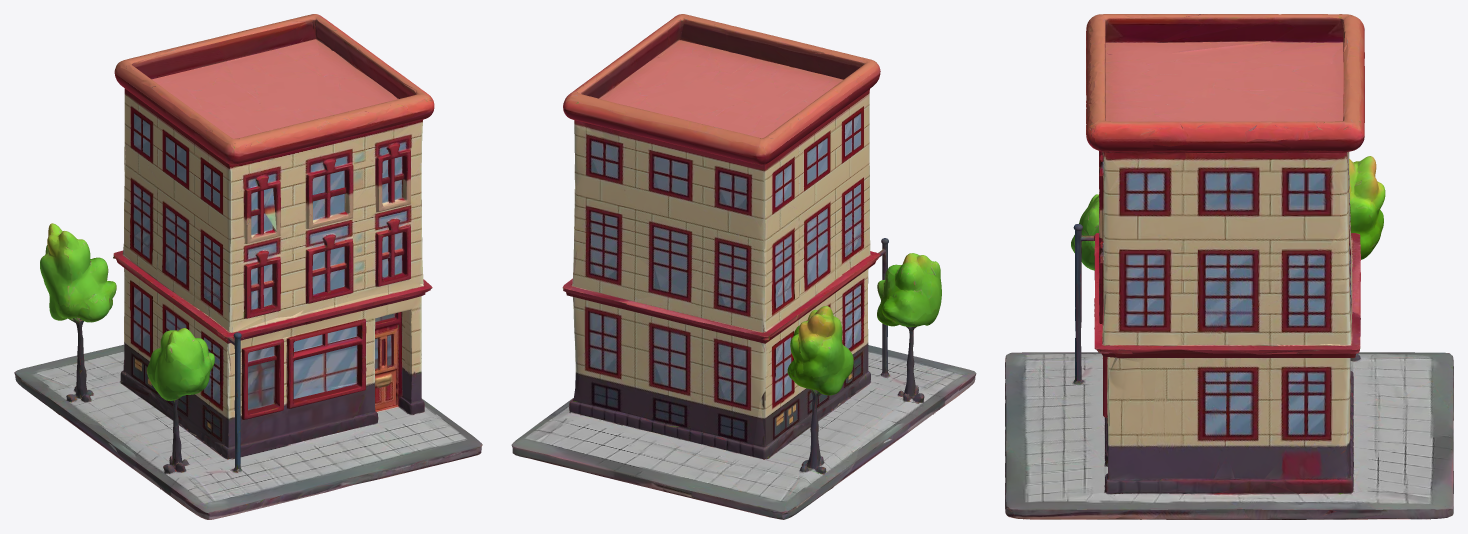
File: corner-building.glb
The picture shows the model from 3 angles, left to right: view 1: azimuth 30°, elevation 25°; view 2: azimuth 150°, elevation 25°; view 3: azimuth 270°, elevation 25°; orthographic projection. The views are drawn at different scales.
Size of the model in its own units: 1.63 by 1.81 by 1.9.
1 material, 1 textured.
